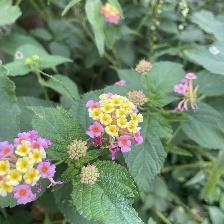common lanthana: (83, 87, 147, 160), (1, 134, 67, 204), (174, 74, 202, 116), (102, 2, 125, 28)
